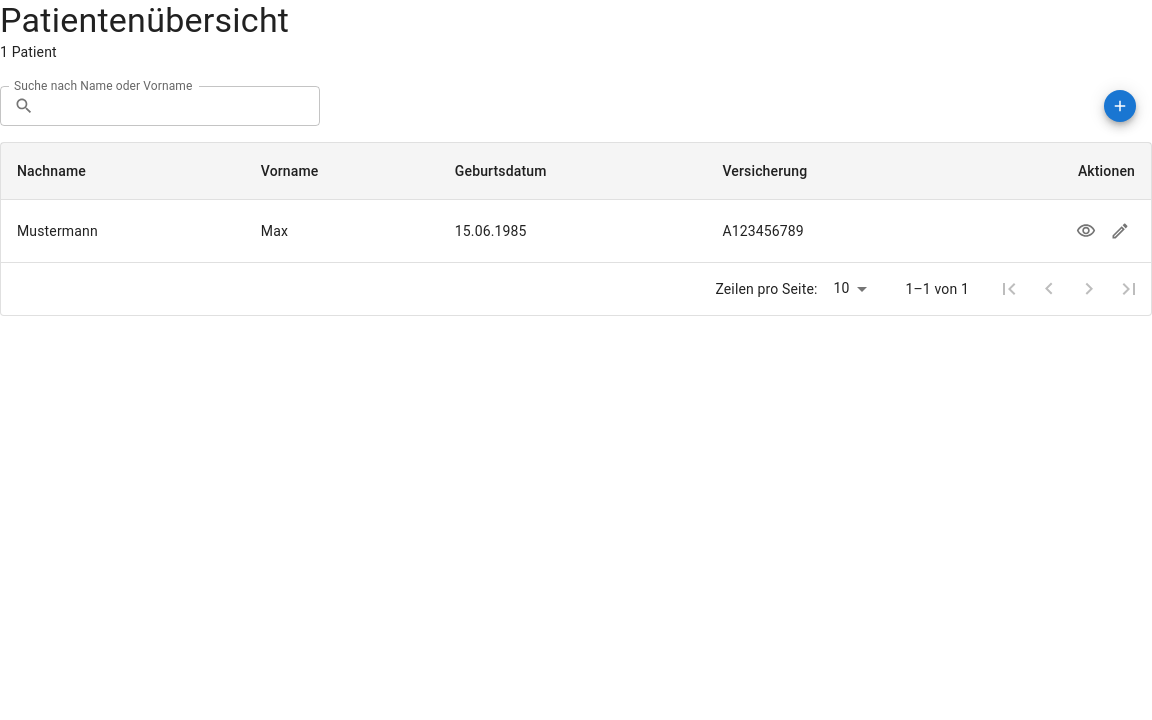
Overview › Bearbeiten › verwirft Aenderungen beim Abbrechen, ohne zu speichern
The image size is (1152, 720).
Click the button named "Patient bearbeiten" at point(1120, 231), box x1=1105 y1=216 x2=1135 y2=246
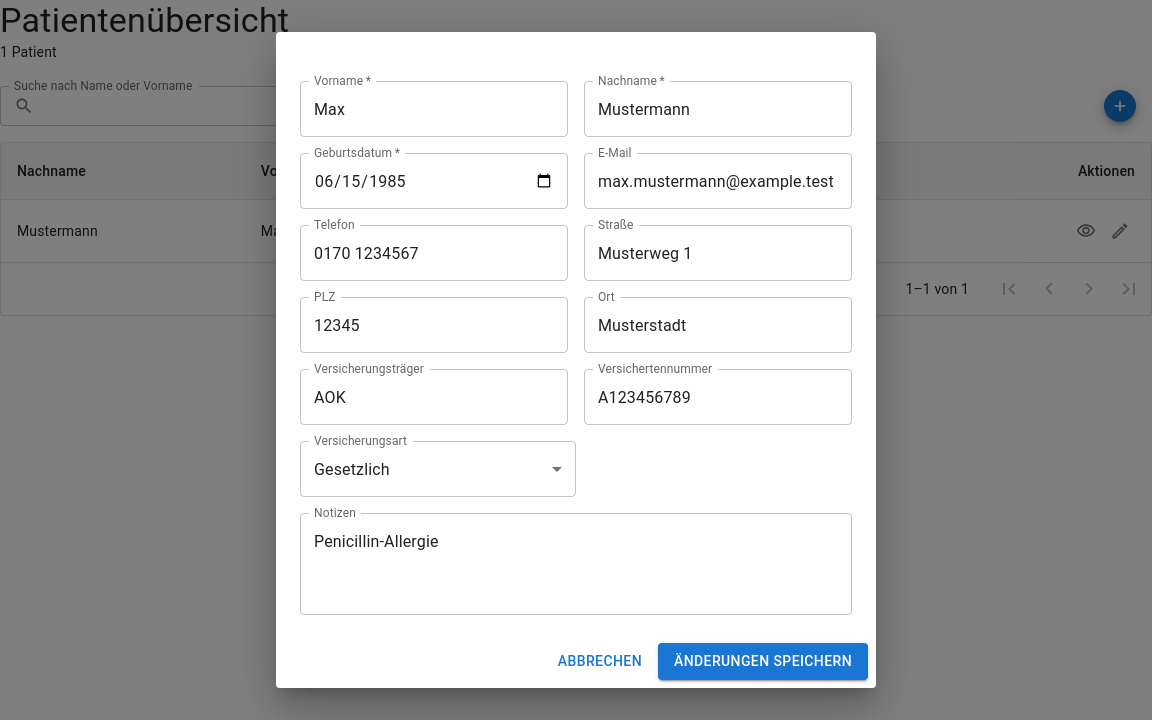
expect the field showing "max.mustermann@example.test" is shown: met, box x1=584 y1=153 x2=852 y2=209
Click the button "Abbrechen" at point(600, 661), box x1=550 y1=643 x2=650 y2=680
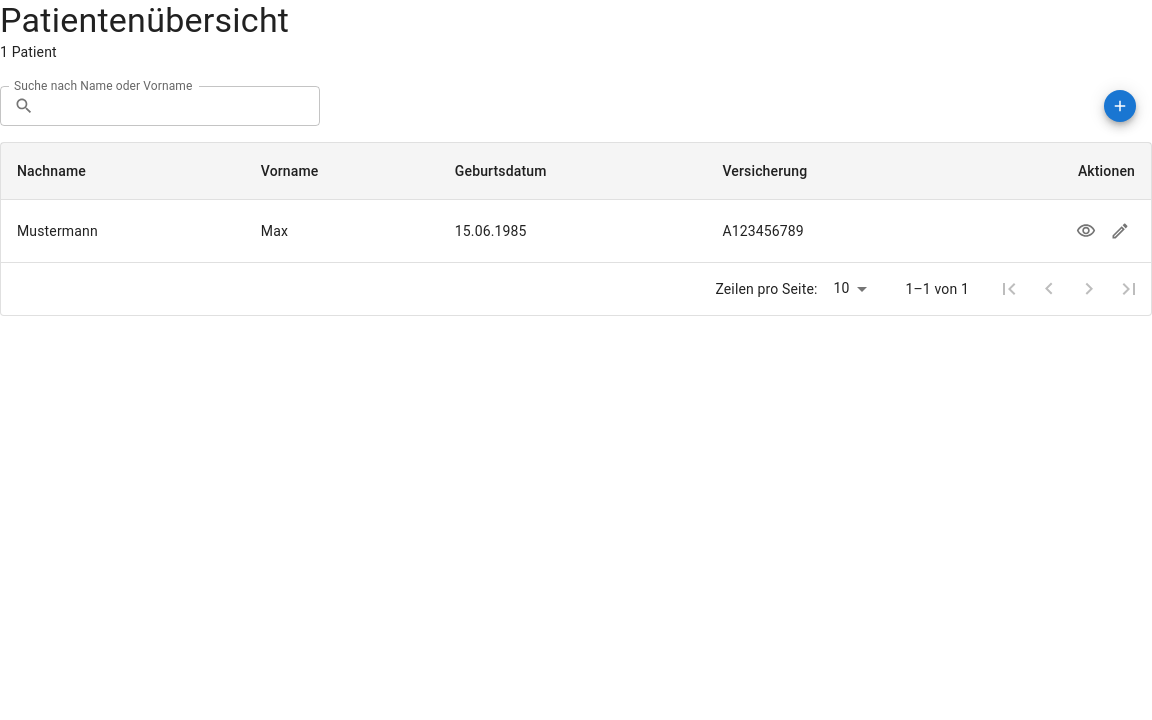
expect the dialog is gone: met
